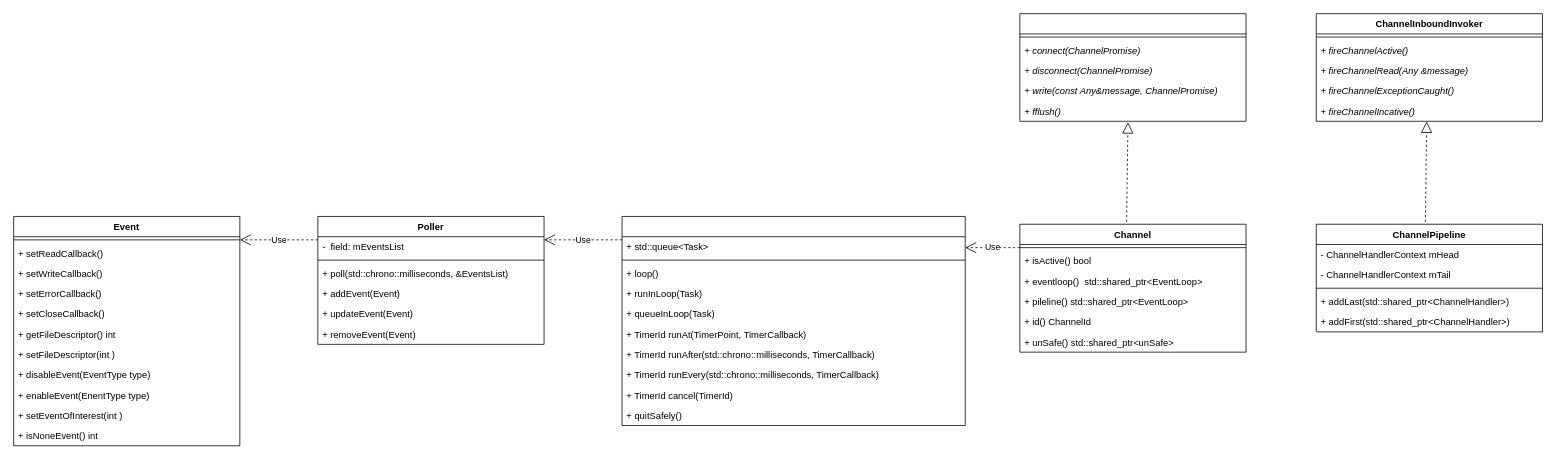
The diagram is 1556 pixels wide and 462 high, and some of its shapes have lost their labels. Here are the shapes that lost their labels. From the top down, the box of each, then its label:
(1019, 13, 1246, 121): ChannelOutboundInvoker
(621, 216, 965, 425): EventLoop
